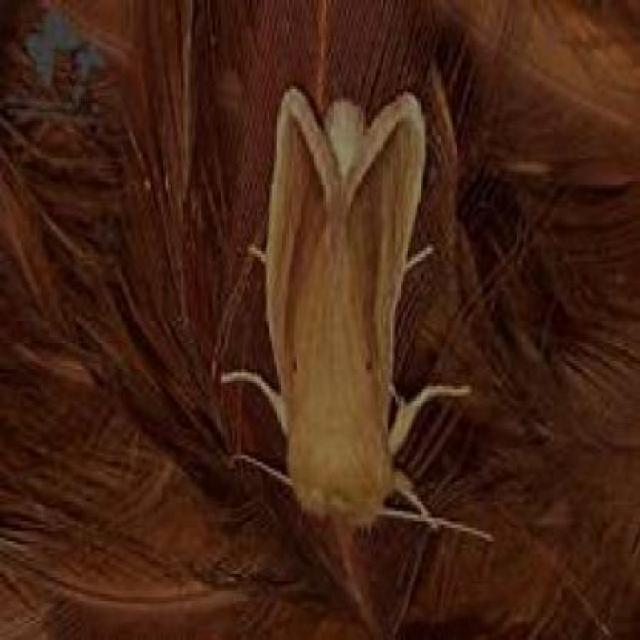stem-borer: (255, 80, 433, 538)
